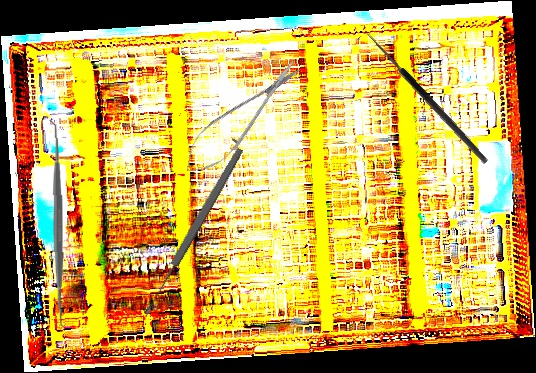Hook Surgical: (356, 28, 490, 171)
Micro Scissor: (174, 51, 310, 185)
Spatula Surgical: (44, 119, 71, 328)
Surgical Spoon: (140, 146, 246, 317)
